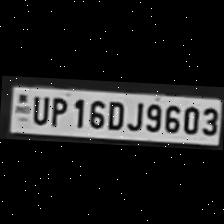0: (178, 101, 200, 133)
1: (67, 94, 87, 128)
3: (198, 102, 220, 134)
6: (84, 96, 106, 128), (160, 100, 180, 132)
9: (142, 98, 162, 132)
D: (103, 96, 125, 130)
J: (124, 97, 144, 130)
P: (46, 92, 68, 125)
U: (28, 91, 48, 123)
